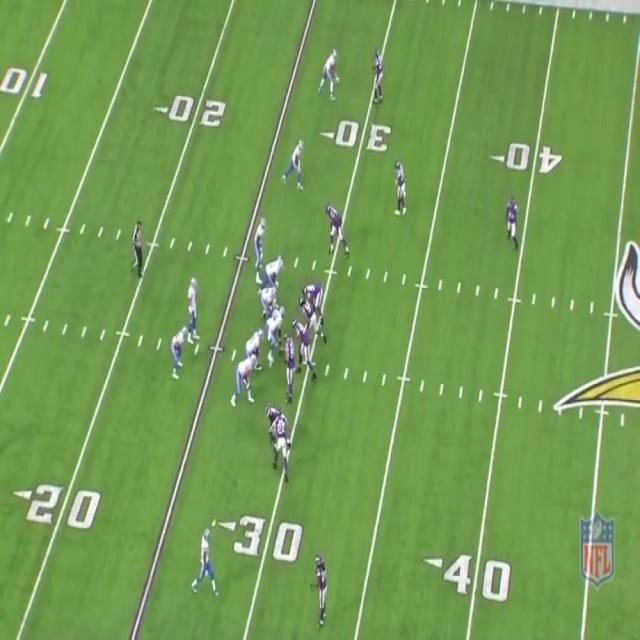center: (267, 304, 285, 347)
db: (274, 410, 291, 480), (312, 554, 329, 624), (500, 197, 522, 241), (396, 160, 411, 211), (372, 46, 384, 98)
lb: (293, 319, 316, 379), (301, 294, 323, 348)
qb: (187, 282, 200, 346)
skill: (194, 526, 218, 584), (287, 140, 306, 192), (320, 49, 340, 94), (169, 326, 186, 378), (258, 216, 268, 260)
